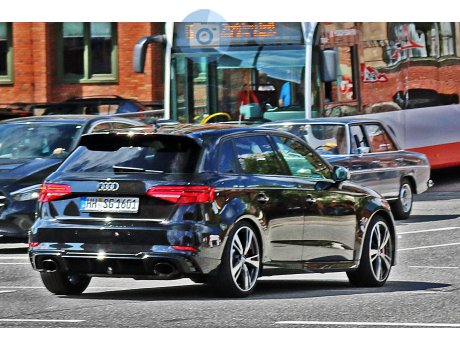License Plates: (82, 197, 137, 209)
